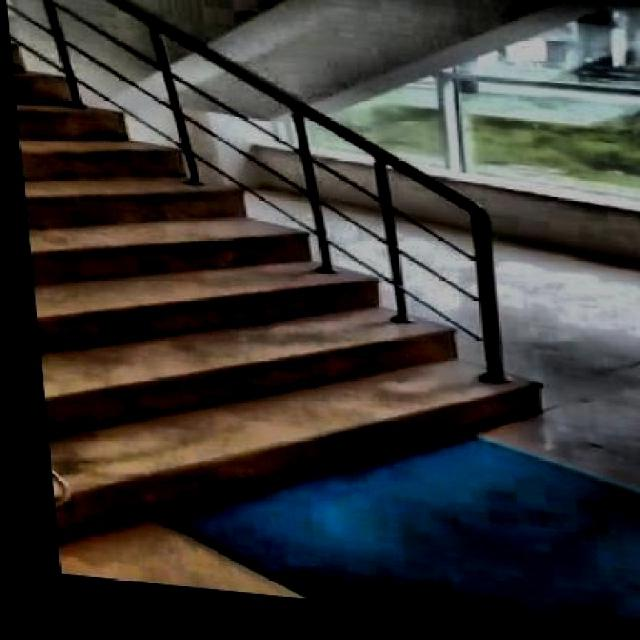stair: (9, 51, 564, 611)
